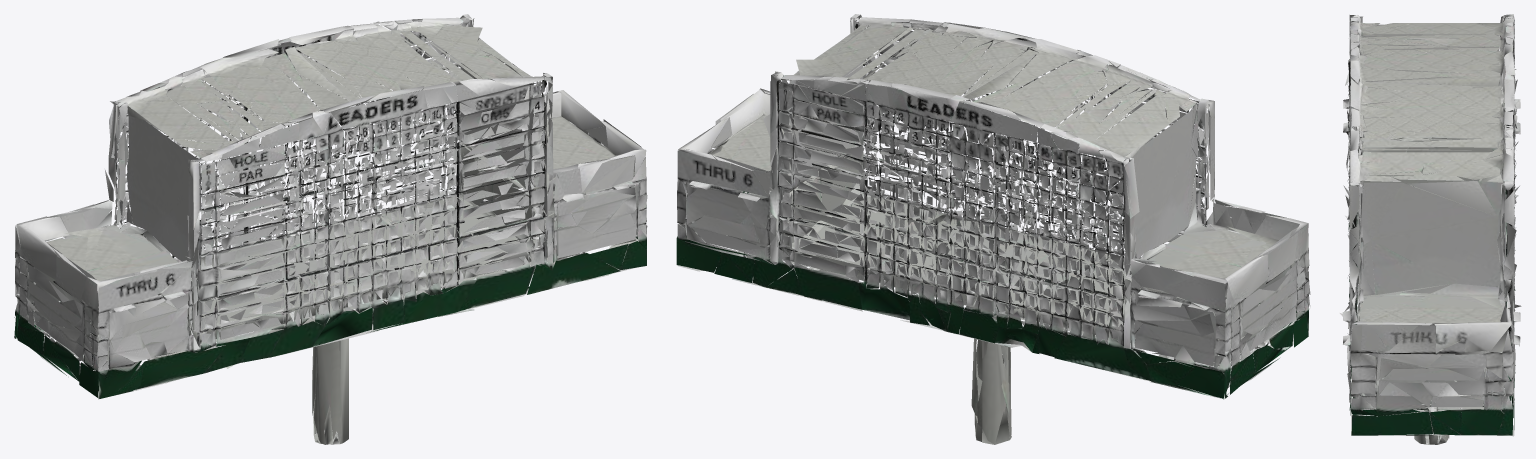
The model's file is ag_board.glb.
3 renders of one model, left to right at view 1: azimuth 30°, elevation 25°; view 2: azimuth 150°, elevation 25°; view 3: azimuth 270°, elevation 25°, orthographic. The views are drawn at different scales.
Parts seen in each view (by area): view 1: Mesh_0; view 2: Mesh_0; view 3: Mesh_0.
Part boxes in pixels (box(x1,y1,x2,y2)): Mesh_0: box(14, 14, 647, 444); Mesh_0: box(676, 14, 1310, 444); Mesh_0: box(1339, 14, 1521, 444).
Bounding box in the file's own units: 0.9997 × 0.6333 × 0.2926.
1 material, 1 textured.
